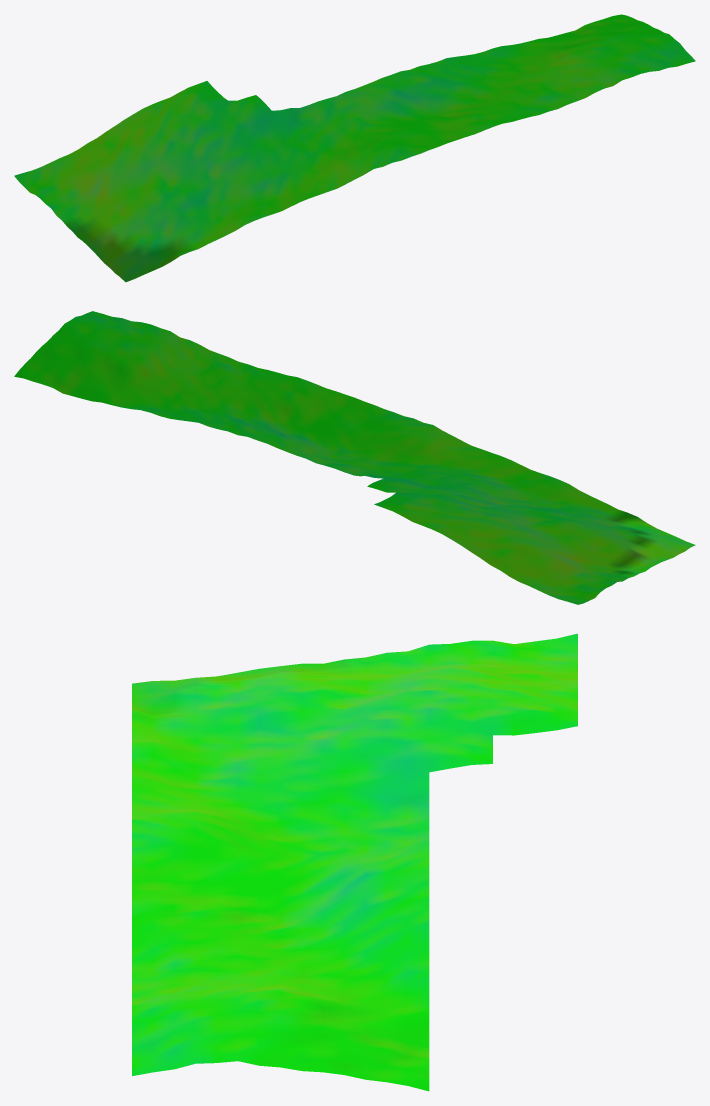
3 renders of one model, top to bottom at view 1: azimuth 30°, elevation 25°; view 2: azimuth 150°, elevation 25°; view 3: azimuth 270°, elevation 25°, orthographic. The views are drawn at different scales.
Visible parts, largest first — view 1: Terrain; view 2: Terrain; view 3: Terrain.
Part boxes in pixels (x1,y1,x2,y2): Terrain: (14,14,695,282); Terrain: (14,311,695,604); Terrain: (132,633,577,1091).
Size of the model in its own units: 62 by 9.3 by 21.
